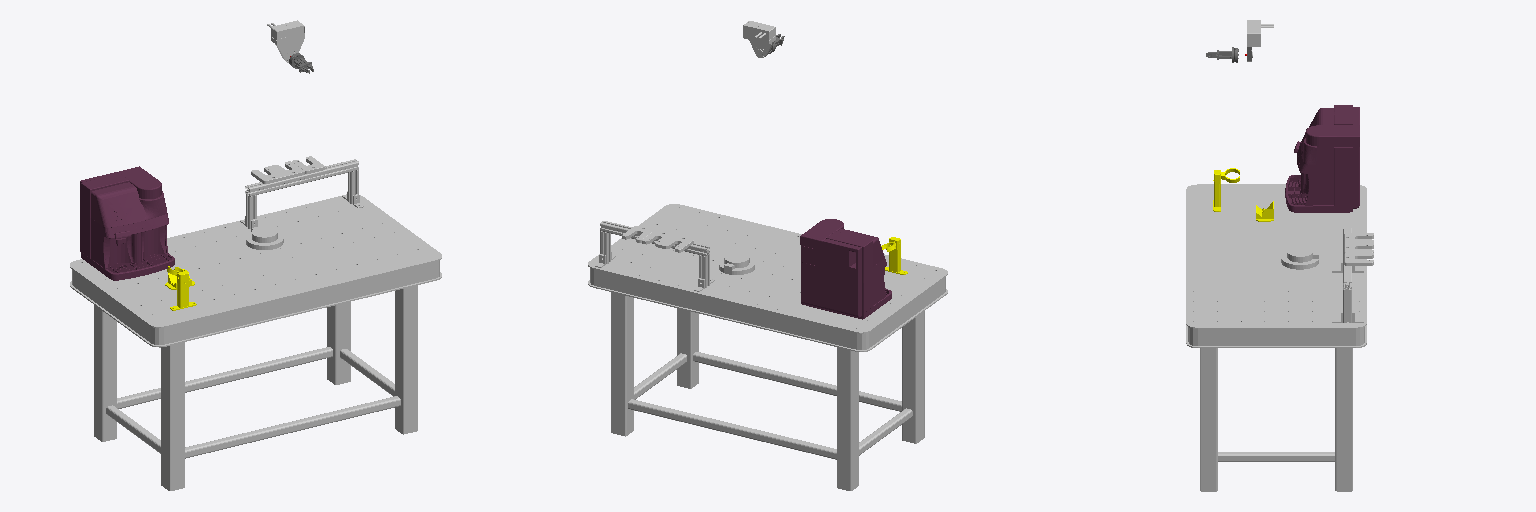
robot.urdf — aubo_e5:
<?xml version="1.0" ?>
<!-- =================================================================================== -->
<!-- |    This document was autogenerated by xacro from /home/mu/IVG2.0/aubo_ros2_ws/src/aubo_ros2_driver/aubo_moveit_config/config/aubo_e5.urdf.xacro | -->
<!-- |    EDITING THIS FILE BY HAND IS NOT RECOMMENDED                                 | -->
<!-- =================================================================================== -->
<robot name="aubo_e5">
  <!-- ===== 机械臂本体 (6-DOF) ===== -->
  <link name="base_link">
    <inertial>
      <origin rpy="0 0 0" xyz="-1.4795E-13 0.0015384 0.020951"/>
      <mass value="0.83419"/>
      <inertia ixx="0.0014414" ixy="7.8809E-15" ixz="8.5328E-16" iyy="0.0013542" iyz="-1.4364E-05" izz="0.0024659"/>
    </inertial>
    <visual>
      <origin rpy="0 0 0" xyz="0 0 0"/>
      <geometry>
        <mesh filename="package://aubo_description/meshes/visual/link0.dae"/>
      </geometry>
      <material name="">
        <color rgba="0.82 0.82 0.82 1"/>
      </material>
    </visual>
    <collision>
      <origin rpy="0 0 0" xyz="0 0 0"/>
      <geometry>
        <mesh filename="package://aubo_description/meshes/collision/link0.stl"/>
      </geometry>
    </collision>
  </link>
  <link name="shoulder_Link">
    <inertial>
      <origin rpy="0 0 0" xyz="0 0.0038 0.0006"/>
      <mass value="5.05"/>
      <inertia ixx="0.0148" ixy="0" ixz="0" iyy="0.0143" iyz="0" izz="0.0095"/>
    </inertial>
    <visual>
      <origin rpy="0 0 0" xyz="0 0 0"/>
      <geometry>
        <mesh filename="package://aubo_description/meshes/visual/link1.dae"/>
      </geometry>
      <material name="">
        <color rgba="0.82 0.82 0.82 1"/>
      </material>
    </visual>
    <collision>
      <origin rpy="0 0 0" xyz="0 0 0"/>
      <geometry>
        <mesh filename="package://aubo_description/meshes/collision/link1.stl"/>
      </geometry>
    </collision>
  </link>
  <joint name="shoulder_joint" type="revolute">
    <origin rpy="0 0 3.1415926535897932384626433832795" xyz="0 0 0.122"/>
    <parent link="base_link"/>
    <child link="shoulder_Link"/>
    <axis xyz="0 0 1"/>
    <limit effort="133" lower="-3.054326190990076759616458844855" start_stop="207" upper="3.054326190990076759616458844855" velocity="2.5964"/>
  </joint>
  <link name="upperArm_Link">
    <inertial>
      <origin rpy="0 0 0" xyz="0.2040 0 0.0196"/>
      <mass value="11.28"/>
      <inertia ixx="0.0305" ixy="0" ixz="0" iyy="0.4505" iyz="0" izz="0.4400"/>
    </inertial>
    <visual>
      <origin rpy="0 0 0" xyz="0 0 0"/>
      <geometry>
        <mesh filename="package://aubo_description/meshes/visual/link2.dae"/>
      </geometry>
      <material name="">
        <color rgba="0.82 0.82 0.82 1"/>
      </material>
    </visual>
    <collision>
      <origin rpy="0 0 0" xyz="0 0 0"/>
      <geometry>
        <mesh filename="package://aubo_description/meshes/collision/link2.stl"/>
      </geometry>
    </collision>
  </link>
  <joint name="upperArm_joint" type="revolute">
    <origin rpy="-1.5707963267948966192313216916398 -1.5707963267948966192313216916398 0" xyz="0 0.1215 0"/>
    <parent link="shoulder_Link"/>
    <child link="upperArm_Link"/>
    <axis xyz="0 0 1"/>
    <limit effort="133" lower="-3.054326190990076759616458844855" start_stop="207" upper="3.054326190990076759616458844855" velocity="2.5964"/>
  </joint>
  <link name="foreArm_Link">
    <inertial>
      <origin rpy="0 0 0" xyz="0.2699 0 0.0992"/>
      <mass value="2.88"/>
      <inertia ixx="0.0033" ixy="0" ixz="0" iyy="0.0575" iyz="0" izz="0.0565"/>
    </inertial>
    <visual>
      <origin rpy="0 0 0" xyz="0 0 0"/>
      <geometry>
        <mesh filename="package://aubo_description/meshes/visual/link3.dae"/>
      </geometry>
      <material name="">
        <color rgba="0.82 0.82 0.82 1"/>
      </material>
    </visual>
    <collision>
      <origin rpy="0 0 0" xyz="0 0 0"/>
      <geometry>
        <mesh filename="package://aubo_description/meshes/collision/link3.stl"/>
      </geometry>
    </collision>
  </link>
  <joint name="foreArm_joint" type="revolute">
    <origin rpy="-3.1415926535897932384626433832795 0 0" xyz="0.408 0 0"/>
    <parent link="upperArm_Link"/>
    <child link="foreArm_Link"/>
    <axis xyz="0 0 1"/>
    <limit effort="133" lower="-3.054326190990076759616458844855" start_stop="207" upper="3.054326190990076759616458844855" velocity="2.5964"/>
  </joint>
  <link name="wrist1_Link">
    <inertial>
      <origin rpy="0 0 0" xyz="0 -0.0997 -0.0780"/>
      <mass value="1.62"/>
      <inertia ixx="0.0023" ixy="0" ixz="0" iyy="0.0013" iyz="0" izz="0.0022"/>
    </inertial>
    <visual>
      <origin rpy="0 0 0" xyz="0 0 0"/>
      <geometry>
        <mesh filename="package://aubo_description/meshes/visual/link4.dae"/>
      </geometry>
      <material name="">
        <color rgba="0.82 0.82 0.82 1"/>
      </material>
    </visual>
    <collision>
      <origin rpy="0 0 0" xyz="0 0 0"/>
      <geometry>
        <mesh filename="package://aubo_description/meshes/collision/link4.stl"/>
      </geometry>
    </collision>
  </link>
  <joint name="wrist1_joint" type="revolute">
    <origin rpy="3.1415926535897932384626433832795 0 1.5707963267948966192313216916398" xyz="0.376 0 0"/>
    <parent link="foreArm_Link"/>
    <child link="wrist1_Link"/>
    <axis xyz="0 0 1"/>
    <limit effort="13.5" lower="-3.054326190990076759616458844855" start_stop="34" upper="3.054326190990076759616458844855" velocity="3.1105"/>
  </joint>
  <link name="wrist2_Link">
    <inertial>
      <origin rpy="0 0 0" xyz="0 -0.0028 -0.0030"/>
      <mass value="1.62"/>
      <inertia ixx="0.0023" ixy="0" ixz="0" iyy="0.0013" iyz="0" izz="0.0022"/>
    </inertial>
    <visual>
      <origin rpy="0 0 0" xyz="0 0 0"/>
      <geometry>
        <mesh filename="package://aubo_description/meshes/visual/link5.dae"/>
      </geometry>
      <material name="">
        <color rgba="0.82 0.82 0.82 1"/>
      </material>
    </visual>
    <collision>
      <origin rpy="0 0 0" xyz="0 0 0"/>
      <geometry>
        <mesh filename="package://aubo_description/meshes/collision/link5.stl"/>
      </geometry>
    </collision>
  </link>
  <joint name="wrist2_joint" type="revolute">
    <origin rpy="-1.5707963267948966192313216916398 0 0" xyz="0 0.1025 0"/>
    <parent link="wrist1_Link"/>
    <child link="wrist2_Link"/>
    <axis xyz="0 0 1"/>
    <limit effort="13.5" lower="-3.054326190990076759616458844855" start_stop="34" upper="3.054326190990076759616458844855" velocity="3.1105"/>
  </joint>
  <link name="wrist3_Link">
    <inertial>
      <origin rpy="0 0 0" xyz="0 0 -0.0442"/>
      <mass value="0.5"/>
      <inertia ixx="0.00139395" ixy="0" ixz="0" iyy="0.00139882" iyz="0" izz="0.00224092"/>
    </inertial>
    <visual>
      <origin rpy="0 0 0" xyz="0 0 0"/>
      <geometry>
        <mesh filename="package://aubo_description/meshes/visual/link6.dae"/>
      </geometry>
      <material name="">
        <color rgba="0.82 0.82 0.82 1"/>
      </material>
    </visual>
    <collision>
      <origin rpy="0 0 0" xyz="0 0 0"/>
      <geometry>
        <mesh filename="package://aubo_description/meshes/collision/link6.stl"/>
      </geometry>
    </collision>
  </link>
  <joint name="wrist3_joint" type="revolute">
    <origin rpy="1.5707963267948966192313216916398 0 1.7907E-15" xyz="0 -0.094 0"/>
    <parent link="wrist2_Link"/>
    <child link="wrist3_Link"/>
    <axis xyz="0 0 1"/>
    <limit effort="13.5" lower="-3.054326190990076759616458844855" start_stop="34" upper="3.054326190990076759616458844855" velocity="3.1105"/>
  </joint>
  <link name="world"/>
  <!-- ===== 底座（咖啡机总装模型 pedestal_Link） ===== -->
  <link name="pedestal_Link">
    <inertial>
      <origin rpy="0 0 0" xyz="0.0024005 -0.14873 -0.0020194"/>
      <mass value="180.93"/>
      <inertia ixx="10.702" ixy="6.7618E-17" ixz="3.0187E-14" iyy="41.01" iyz="1.466E-07" izz="32.457"/>
    </inertial>
    <visual>
      <origin rpy="0 0 0" xyz="0 0 0"/>
      <geometry>
        <mesh filename="package://aubo_description/meshes/visual/pedestal_link.stl"/>
      </geometry>
      <material name="">
        <color rgba="0.82 0.82 0.82 1"/>
      </material>
    </visual>
    <collision>
      <origin rpy="0 0 0" xyz="0 0 0"/>
      <geometry>
        <mesh filename="package://aubo_description/meshes/collision/pedestal_link.stl"/>
      </geometry>
    </collision>
  </link>
  <joint name="world_to_pedestal" type="fixed">
    <parent link="world"/>
    <child link="pedestal_Link"/>
    <origin rpy="0.0 0.0 0.0" xyz="0.0 0.0 0.0"/>
  </joint>
  <joint name="base_joint" type="fixed">
    <origin rpy="0 0 0" xyz="0.10483 0.10483 0.028"/>
    <parent link="pedestal_Link"/>
    <child link="base_link"/>
  </joint>
  <!-- ===== 咖啡机总装模型配件 ===== -->
  <link name="cup0_Link">
    <inertial>
      <origin rpy="0 0 0" xyz="0.0459046653140415 0.0335578409178754 0.00298286778797363"/>
      <mass value="1.42763211505643"/>
      <inertia ixx="0.00133864759857838" ixy="-0.000153798571779387" ixz="-3.31742934007893E-05" iyy="0.00208448111254178" iyz="-3.67284842420613E-05" izz="0.0011896985575748"/>
    </inertial>
    <visual>
      <origin rpy="0 0 0" xyz="0 0 0"/>
      <geometry>
        <mesh filename="package://aubo_description/meshes/visual/cup0_link.stl"/>
      </geometry>
      <material name="">
        <color rgba="1 1 0 1"/>
      </material>
    </visual>
    <collision>
      <origin rpy="0 0 0" xyz="0 0 0"/>
      <geometry>
        <mesh filename="package://aubo_description/meshes/collision/cup0_link.stl"/>
      </geometry>
    </collision>
  </link>
  <joint name="cup0_joint" type="fixed">
    <origin rpy="1.5708 0 1.5708" xyz="-0.4225 -0.0925 -0.012"/>
    <parent link="pedestal_Link"/>
    <child link="cup0_Link"/>
  </joint>
  <link name="lizhu_Link">
    <inertial>
      <origin rpy="0 0 0" xyz="0.012277 0.082104 1.7053E-05"/>
      <mass value="0.86598"/>
      <inertia ixx="0.0014347" ixy="1.5778E-05" ixz="1.1895E-08" iyy="0.00066764" iyz="3.1238E-05" izz="0.0012088"/>
    </inertial>
    <visual>
      <origin rpy="0 0 0" xyz="0 0 0"/>
      <geometry>
        <mesh filename="package://aubo_description/meshes/visual/lizhu_link.stl"/>
      </geometry>
      <material name="">
        <color rgba="1 1 0 1"/>
      </material>
    </visual>
    <collision>
      <origin rpy="0 0 0" xyz="0 0 0"/>
      <geometry>
        <mesh filename="package://aubo_description/meshes/collision/lizhu_link.stl"/>
      </geometry>
    </collision>
  </link>
  <joint name="lizhu_joint" type="fixed">
    <origin rpy="1.5708 0 1.5708" xyz="-0.525 -0.2625 0.006"/>
    <parent link="pedestal_Link"/>
    <child link="lizhu_Link"/>
  </joint>
  <link name="coffee_Link">
    <inertial>
      <origin rpy="0 0 0" xyz="0.01588 0.20584 0.0021911"/>
      <mass value="91.454"/>
      <inertia ixx="0.89876" ixy="0.0020091" ixz="-0.10749" iyy="1.0151" iyz="0.023803" izz="0.44104"/>
    </inertial>
    <visual>
      <origin rpy="0 0 0" xyz="0 0 0"/>
      <geometry>
        <mesh filename="package://aubo_description/meshes/visual/coffee_link.stl"/>
      </geometry>
      <material name="">
        <color rgba="0.42745 0.24706 0.35686 1"/>
      </material>
    </visual>
    <collision>
      <origin rpy="0 0 0" xyz="0 0 0"/>
      <geometry>
        <mesh filename="package://aubo_description/meshes/collision/coffee_link.stl"/>
      </geometry>
    </collision>
  </link>
  <joint name="coffee_joint" type="fixed">
    <origin rpy="1.5708 0 1.5708" xyz="-0.53995 0.20318 0.046"/>
    <parent link="pedestal_Link"/>
    <child link="coffee_Link"/>
  </joint>
  <!-- ===== 末端执行器: 相机 ===== -->
  <link name="camera_Link">
    <inertial>
      <origin rpy="0 0 0" xyz="-0.0005963 0.085972 -0.026401"/>
      <mass value="0.72743"/>
      <inertia ixx="0.00064649" ixy="2.7688E-06" ixz="-2.0272E-05" iyy="0.0013072" iyz="8.2399E-05" izz="0.0014971"/>
    </inertial>
    <visual>
      <origin rpy="0 0 0" xyz="0 0 0"/>
      <geometry>
        <mesh filename="package://aubo_description/meshes/visual/camera_link.stl"/>
      </geometry>
      <material name="">
        <color rgba="0.82 0.82 0.82 1"/>
      </material>
    </visual>
    <collision>
      <origin rpy="0 0 0" xyz="0 0 0"/>
      <geometry>
        <mesh filename="package://aubo_description/meshes/collision/camera_link.stl"/>
      </geometry>
    </collision>
  </link>
  <joint name="camera_joint" type="fixed">
    <origin rpy="0.0 0.0 0.0" xyz="0.0 0.0 0.020"/>
    <parent link="wrist3_Link"/>
    <child link="camera_Link"/>
  </joint>
  <!-- ===== 末端执行器: 快换法兰 ===== -->
  <link name="kuaihuan_Link">
    <inertial>
      <origin rpy="0 0 0" xyz="-0.00074639 7.4616E-05 0.0097884"/>
      <mass value="0.21939"/>
      <inertia ixx="6.3771E-05" ixy="4.2875E-07" ixz="-1.7848E-07" iyy="6.9403E-05" iyz="-4.5085E-07" izz="0.0001149"/>
    </inertial>
    <visual>
      <origin rpy="0 0 0" xyz="0 0 0"/>
      <geometry>
        <mesh filename="package://aubo_description/meshes/visual/kuaihuan_link.stl"/>
      </geometry>
      <material name="">
        <color rgba="0.82 0.82 0.82 1"/>
      </material>
    </visual>
    <collision>
      <origin rpy="0 0 0" xyz="0 0 0"/>
      <geometry>
        <mesh filename="package://aubo_description/meshes/collision/kuaihuan_link.stl"/>
      </geometry>
    </collision>
  </link>
  <joint name="kuaihuan_joint" type="fixed">
    <origin rpy="0 0 3.1416" xyz="0 0 0.0215"/>
    <parent link="camera_Link"/>
    <child link="kuaihuan_Link"/>
  </joint>
  <link name="gripper0_Link">
    <visual>
      <origin rpy="0 0 0" xyz="0 0 0"/>
      <geometry>
        <mesh filename="package://aubo_description/meshes/visual/gripper0_link.stl"/>
      </geometry>
      <material name="gripper0_material">
        <color rgba="0.5 0.5 0.5 1.0"/>
      </material>
    </visual>
    <collision>
      <origin rpy="0 0 0" xyz="0 0 0"/>
      <geometry>
        <mesh filename="package://aubo_description/meshes/collision/gripper0_link.stl"/>
      </geometry>
    </collision>
  </link>
  <joint name="kuaihuan_to_gripper0" type="fixed">
    <parent link="kuaihuan_Link"/>
    <child link="gripper0_Link"/>
    <origin rpy="0 0 0" xyz="0 0 0.02"/>
  </joint>
  <!-- Tool Center Point -->
  <link name="tool_tcp">
    <visual>
      <origin rpy="0 0 0" xyz="0 0 0"/>
      <geometry>
        <sphere radius="0.005"/>
      </geometry>
      <material name="tcp_marker">
        <color rgba="1.0 0.0 0.0 1.0"/>
      </material>
    </visual>
  </link>
  <joint name="wrist3_to_tcp" type="fixed">
    <parent link="wrist3_Link"/>
    <child link="tool_tcp"/>
    <origin rpy="0.0 0.0 0.0" xyz="0.0 0.0 0.0235"/>
  </joint>
  <transmission name="shoulder_joint_trans">
    <type>transmission_interface/SimpleTransmission</type>
    <joint name="shoulder_joint">
      <hardwareInterface>hardware_interface/PositionJointInterface</hardwareInterface>
    </joint>
    <actuator name="shoulder_joint_motor">
      <mechanicalReduction>1</mechanicalReduction>
    </actuator>
  </transmission>
  <transmission name="upperArm_joint_trans">
    <type>transmission_interface/SimpleTransmission</type>
    <joint name="upperArm_joint">
      <hardwareInterface>hardware_interface/PositionJointInterface</hardwareInterface>
    </joint>
    <actuator name="upperArm_joint_motor">
      <mechanicalReduction>1</mechanicalReduction>
    </actuator>
  </transmission>
  <transmission name="foreArm_joint_trans">
    <type>transmission_interface/SimpleTransmission</type>
    <joint name="foreArm_joint">
      <hardwareInterface>hardware_interface/PositionJointInterface</hardwareInterface>
    </joint>
    <actuator name="foreArm_joint_motor">
      <mechanicalReduction>1</mechanicalReduction>
    </actuator>
  </transmission>
  <transmission name="wrist1_joint_trans">
    <type>transmission_interface/SimpleTransmission</type>
    <joint name="wrist1_joint">
      <hardwareInterface>hardware_interface/PositionJointInterface</hardwareInterface>
    </joint>
    <actuator name="wrist1_joint_motor">
      <mechanicalReduction>1</mechanicalReduction>
    </actuator>
  </transmission>
  <transmission name="wrist2_joint_trans">
    <type>transmission_interface/SimpleTransmission</type>
    <joint name="wrist2_joint">
      <hardwareInterface>hardware_interface/PositionJointInterface</hardwareInterface>
    </joint>
    <actuator name="wrist2_joint_motor">
      <mechanicalReduction>1</mechanicalReduction>
    </actuator>
  </transmission>
  <transmission name="wrist3_joint_trans">
    <type>transmission_interface/SimpleTransmission</type>
    <joint name="wrist3_joint">
      <hardwareInterface>hardware_interface/PositionJointInterface</hardwareInterface>
    </joint>
    <actuator name="wrist3_joint_motor">
      <mechanicalReduction>1</mechanicalReduction>
    </actuator>
  </transmission>
  <ros2_control name="auboHardwareInterface" type="system">
    <hardware>
      <plugin>fake_components/GenericSystem</plugin>
      <param name="fake_sensor_commands">False</param>
      <param name="state_following_offset">0.0</param>
    </hardware>
    <joint name="shoulder_joint">
      <command_interface name="position">
        <param name="min">-3.05</param>
        <param name="max">3.05</param>
      </command_interface>
      <state_interface name="position"/>
      <state_interface name="velocity"/>
    </joint>
    <joint name="upperArm_joint">
      <command_interface name="position">
        <param name="min">-3.05</param>
        <param name="max">3.05</param>
      </command_interface>
      <state_interface name="position"/>
      <state_interface name="velocity"/>
    </joint>
    <joint name="foreArm_joint">
      <command_interface name="position">
        <param name="min">-3.05</param>
        <param name="max">3.05</param>
      </command_interface>
      <state_interface name="position"/>
      <state_interface name="velocity"/>
    </joint>
    <joint name="wrist1_joint">
      <command_interface name="position">
        <param name="min">-3.05</param>
        <param name="max">3.05</param>
      </command_interface>
      <state_interface name="position"/>
      <state_interface name="velocity"/>
    </joint>
    <joint name="wrist2_joint">
      <command_interface name="position">
        <param name="min">-3.05</param>
        <param name="max">3.05</param>
      </command_interface>
      <state_interface name="position"/>
      <state_interface name="velocity"/>
    </joint>
    <joint name="wrist3_joint">
      <command_interface name="position">
        <param name="min">-3.05</param>
        <param name="max">3.05</param>
      </command_interface>
      <state_interface name="position"/>
      <state_interface name="velocity"/>
    </joint>
  </ros2_control>
</robot>

--- Render facts (derived) ---
3 views of the same robot in one strip: view 1: azimuth 30°, elevation 25°; view 2: azimuth 150°, elevation 25°; view 3: azimuth 270°, elevation 25° (orthographic).
Model aubo_e5 with 16 links and 15 joints (6 revolute, 9 fixed), rooted at world, posed every joint at zero.
Links seen in each view (by area): view 1: pedestal_Link, coffee_Link, camera_Link, base_link, lizhu_Link; view 2: pedestal_Link, coffee_Link, camera_Link, base_link; view 3: pedestal_Link, coffee_Link, base_link.
Boxes of the visible links, x1,y1,x2,y2 form: pedestal_Link: (70, 156, 441, 490); coffee_Link: (80, 166, 174, 280); camera_Link: (267, 20, 304, 62); base_link: (246, 226, 283, 249); lizhu_Link: (167, 266, 196, 310); pedestal_Link: (588, 204, 947, 490); coffee_Link: (800, 219, 891, 319); camera_Link: (743, 21, 775, 57); base_link: (719, 252, 754, 274); pedestal_Link: (1186, 184, 1373, 491); coffee_Link: (1285, 105, 1359, 212); base_link: (1281, 246, 1318, 269).
Size in the robot's own frame: 1.5 by 0.83 by 2.02 metres.
7 mesh visuals loaded from 14 distinct referenced files (6 binary STL, 1 Collada DAE); not drawn: 7 (reference not matched to a file when rendering).
